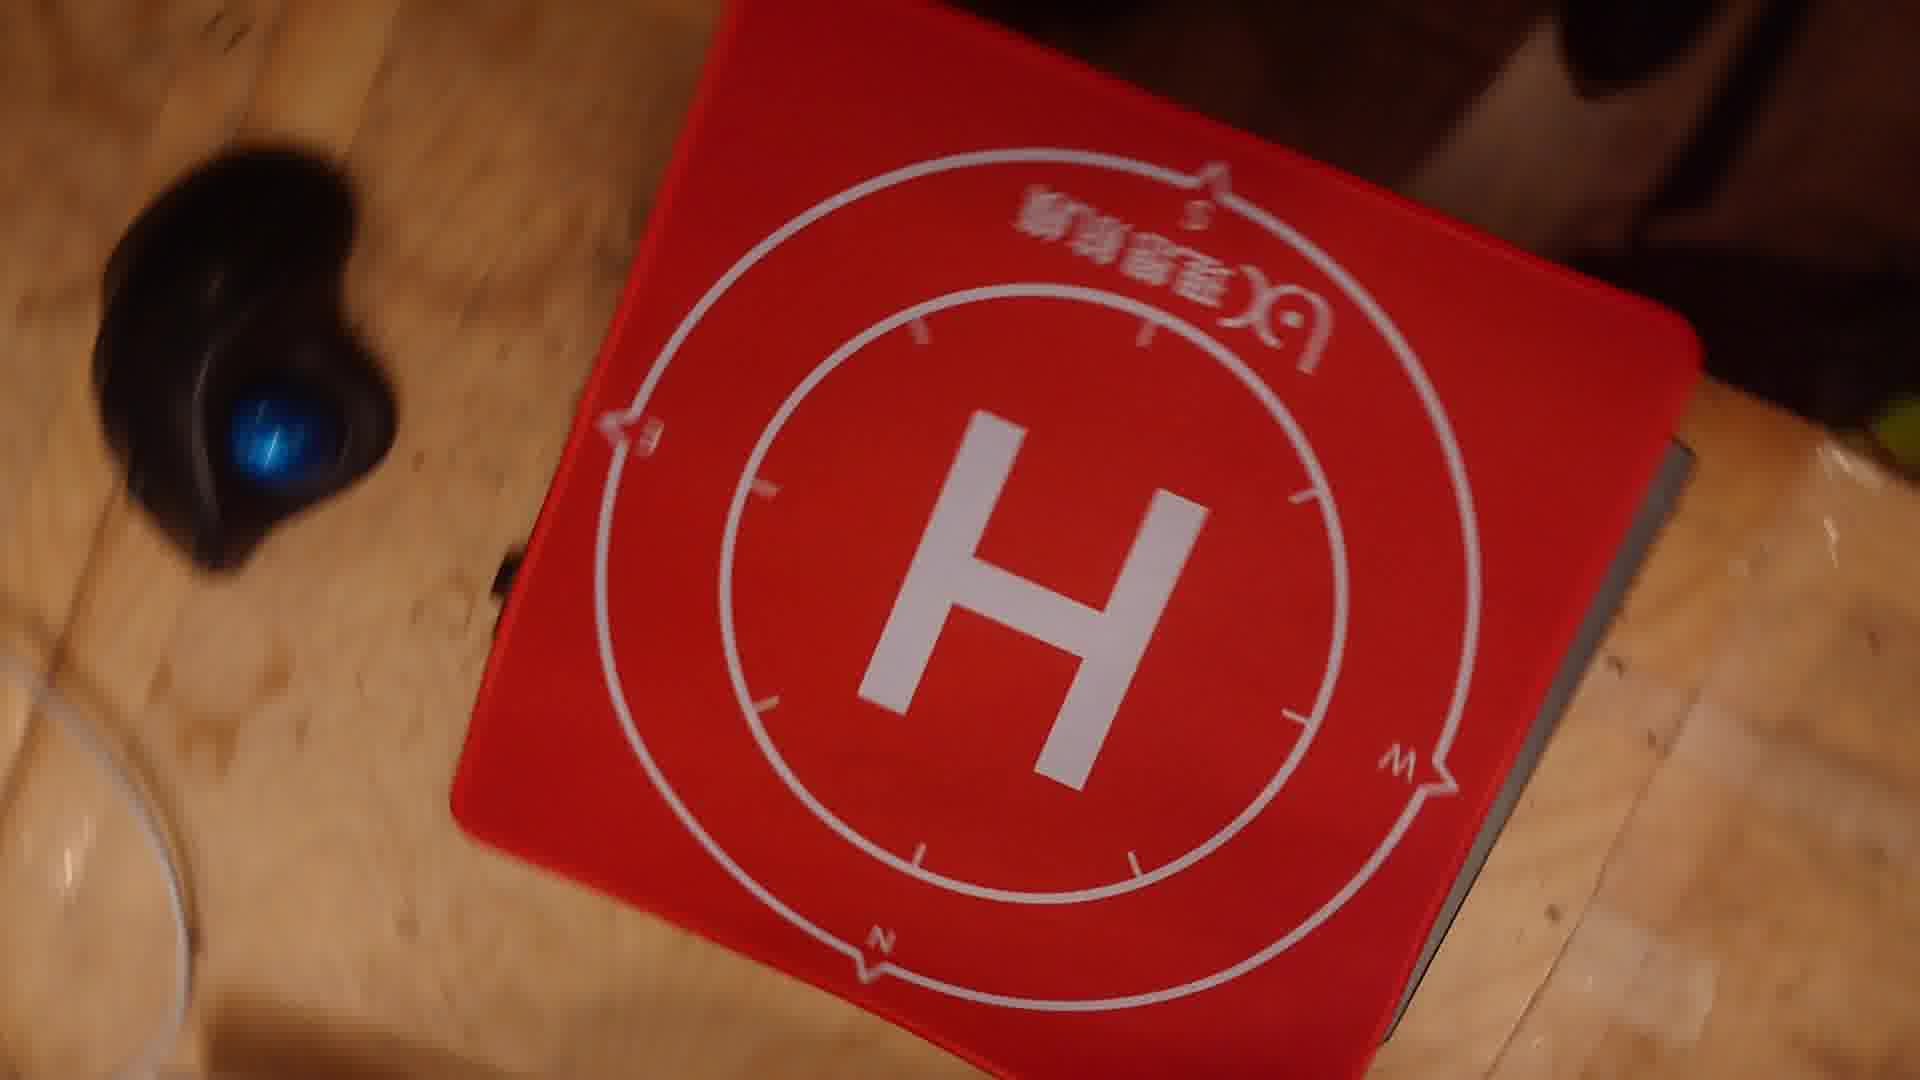H: (860, 407, 1211, 790)
